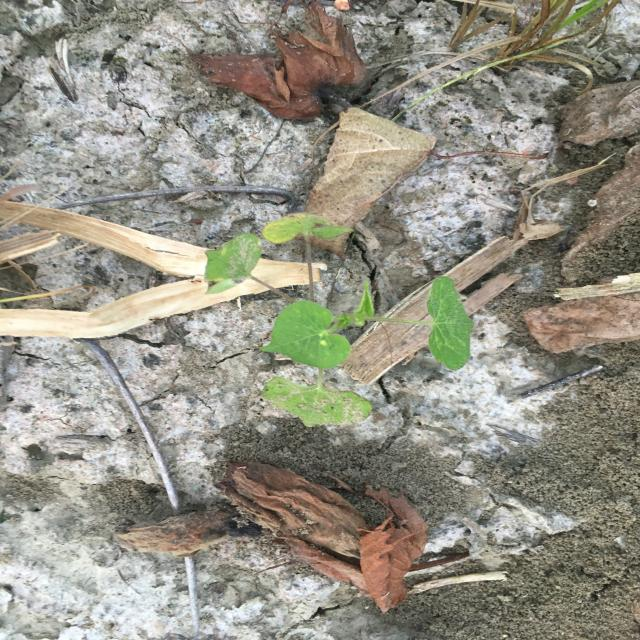MorningGlory: (200, 212, 479, 430)
